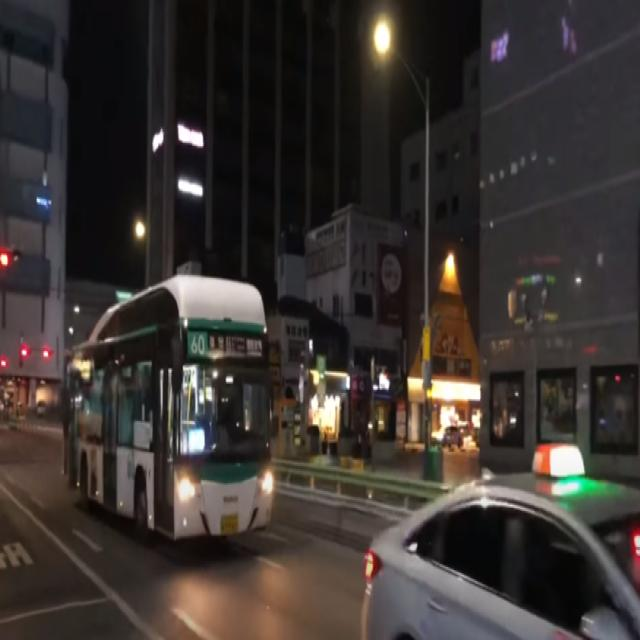bus-number: (190, 332, 205, 356)
